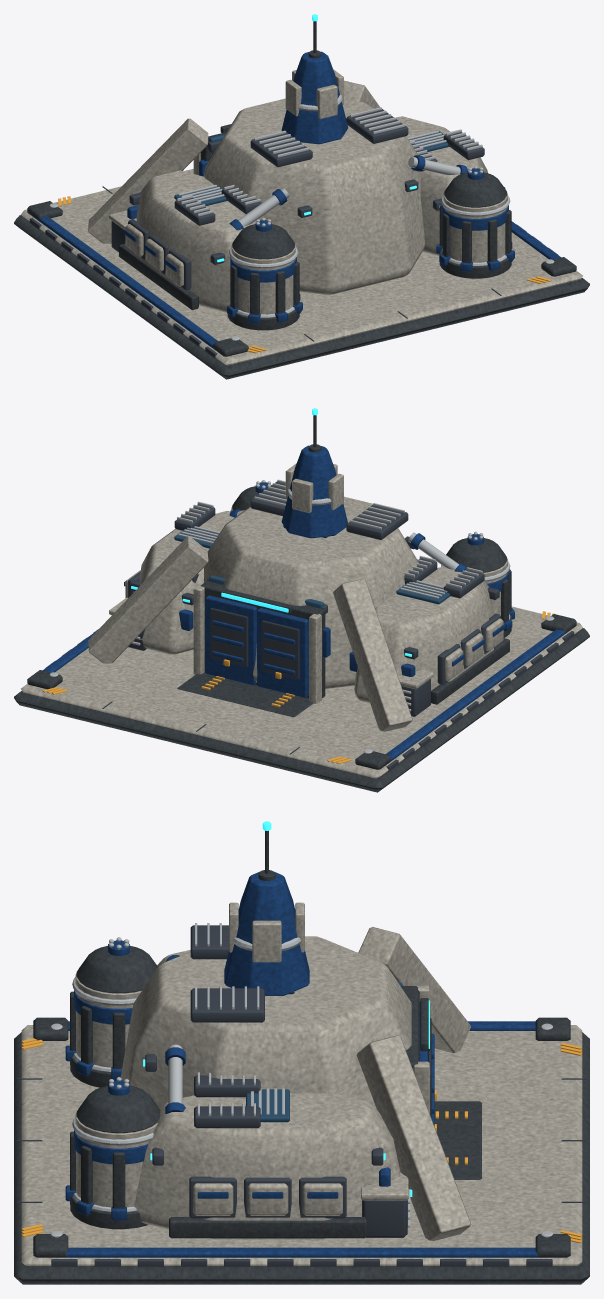
Rendered from solis_atelier_de_conception.gltf.
The picture shows the model from 3 angles, top to bottom: view 1: azimuth 30°, elevation 25°; view 2: azimuth 150°, elevation 25°; view 3: azimuth 270°, elevation 25°; orthographic projection. The views are drawn at different scales.
Visible parts, largest first — view 1: Building_Geometry; view 2: Building_Geometry, Door_0_L_Geometry, Door_0_R_Geometry; view 3: Building_Geometry.
Boxes of the visible parts, box(x1,y1,x2,y2) form: Building_Geometry: box(14, 14, 589, 379); Building_Geometry: box(14, 408, 589, 792); Door_0_L_Geometry: box(257, 608, 308, 697); Door_0_R_Geometry: box(205, 595, 257, 685); Building_Geometry: box(14, 821, 589, 1284).
Bounding box in the file's own units: 5.92 × 3.9 × 5.92.
8 materials, 3 textured.
